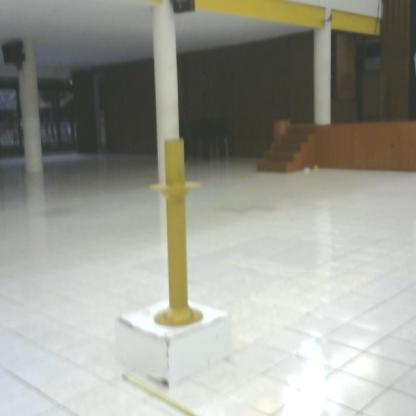pole: (146, 129, 214, 340)
